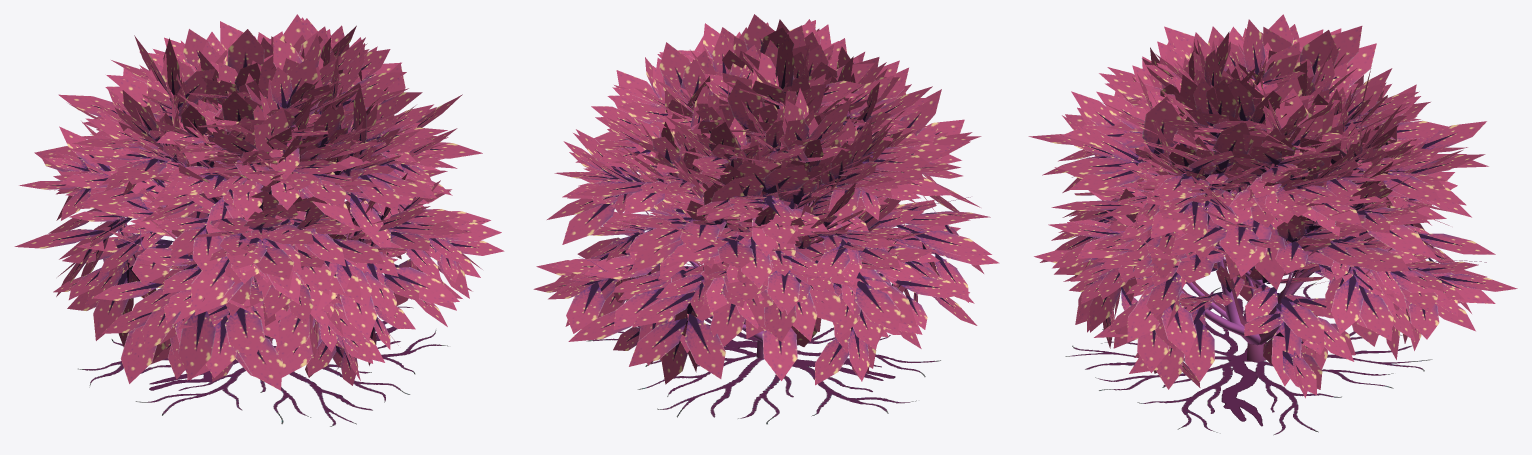
Rendered from RedBush.fbx.
3 views of the same model, side by side, from view 1: azimuth 30°, elevation 25°; view 2: azimuth 150°, elevation 25°; view 3: azimuth 270°, elevation 25° (orthographic). The views are drawn at different scales.
Parts seen in each view (by area): view 1: leaves.002, Plane.007; view 2: leaves.002, Plane.007, tree.002; view 3: leaves.002, Plane.007, tree.002.
Boxes of the visible parts, box(x1,y1,x2,y2) form: leaves.002: box(14, 14, 504, 390); Plane.007: box(78, 306, 448, 426); leaves.002: box(533, 14, 999, 385); Plane.007: box(586, 318, 940, 424); tree.002: box(569, 190, 970, 359); leaves.002: box(1028, 14, 1517, 398); Plane.007: box(1065, 282, 1432, 435); tree.002: box(1112, 190, 1486, 362).
Size of the model in its own units: 637 by 545 by 713.
